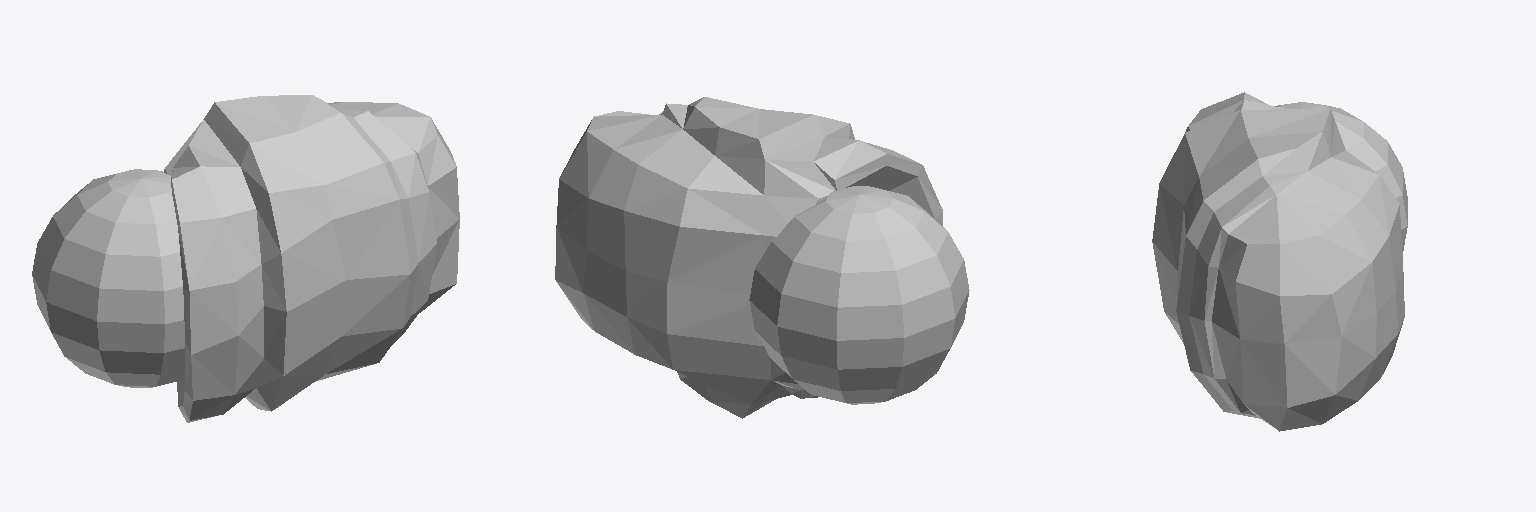
Rendered from RFinger33.obj.
3 views of the same model, side by side, from view 1: azimuth 30°, elevation 25°; view 2: azimuth 150°, elevation 25°; view 3: azimuth 270°, elevation 25° (orthographic).
Parts seen in each view (by area): view 1: RFinger33_JULIETTE_AV_BRAS_.098; view 2: RFinger33_JULIETTE_AV_BRAS_.098; view 3: RFinger33_JULIETTE_AV_BRAS_.098.
Part boxes in pixels (bbox=[...]): RFinger33_JULIETTE_AV_BRAS_.098: bbox=[32, 95, 459, 422]; RFinger33_JULIETTE_AV_BRAS_.098: bbox=[555, 97, 969, 418]; RFinger33_JULIETTE_AV_BRAS_.098: bbox=[1152, 92, 1407, 431].
Size of the model in its own units: 0.2263 by 0.1517 by 0.126.